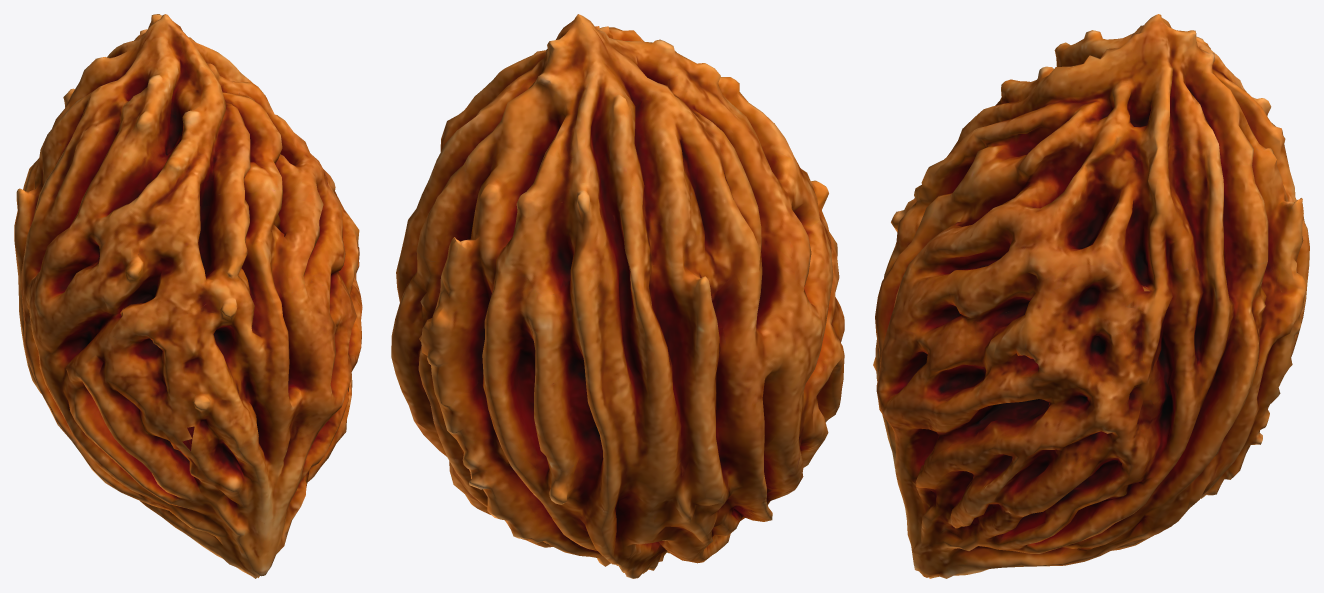
Rendered from peach_core.glb.
3 views of the same model, side by side, from view 1: azimuth 30°, elevation 25°; view 2: azimuth 150°, elevation 25°; view 3: azimuth 270°, elevation 25° (orthographic). The views are drawn at different scales.
Size of the model in its own units: 0.6299 by 0.9521 by 0.6636.
Materials: 1 (1 with a texture image).
